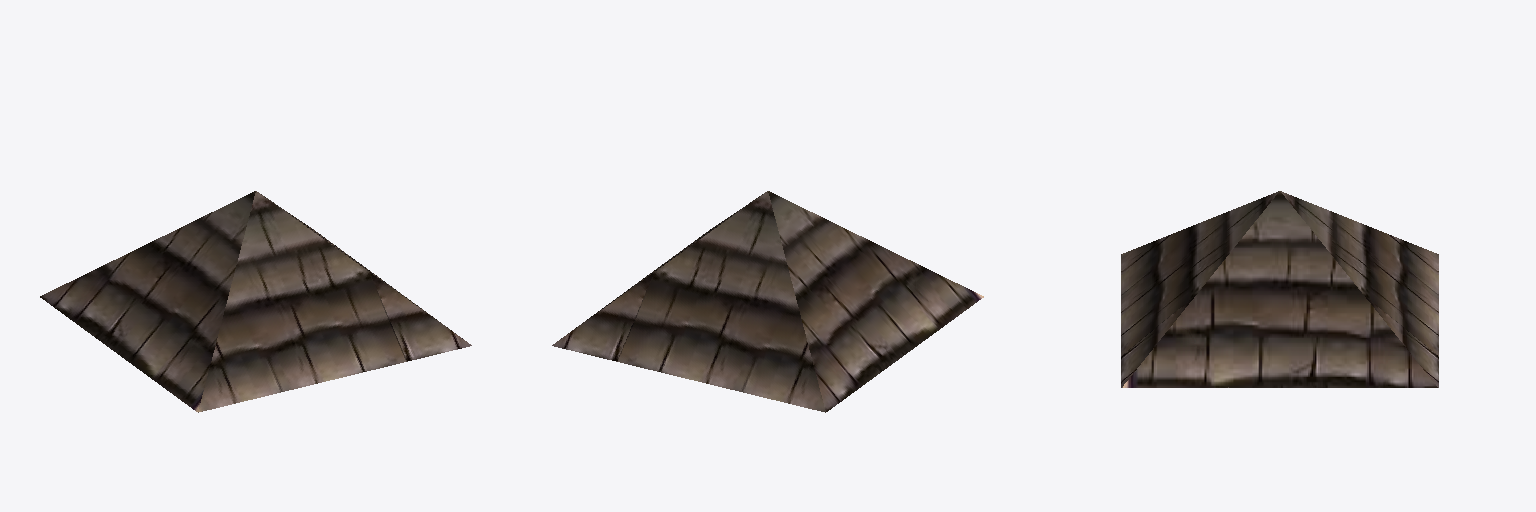
The picture shows the model from 3 angles: view 1: azimuth 30°, elevation 25°; view 2: azimuth 150°, elevation 25°; view 3: azimuth 270°, elevation 25°; orthographic projection.
Parts seen in each view (by area): view 1: Cube.001_Cube.055; view 2: Cube.001_Cube.055; view 3: Cube.001_Cube.055.
Part boxes in pixels (left/top/right/bottom): Cube.001_Cube.055: left=40, top=191, right=471, bottom=412; Cube.001_Cube.055: left=552, top=191, right=983, bottom=412; Cube.001_Cube.055: left=1121, top=191, right=1438, bottom=387.
Size of the model in its own units: 8.18 by 3.72 by 8.18.
Materials: 1 (1 with a texture image).